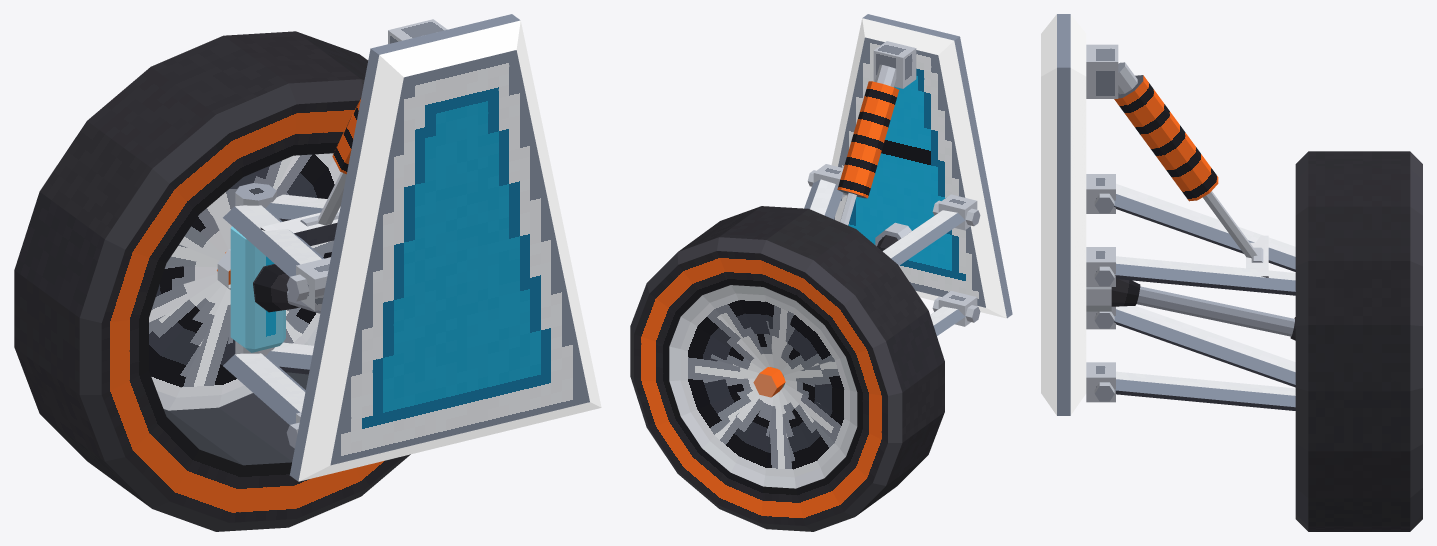
Rendered from aero_a_wheel.glb.
3 views of the same model, side by side, from view 1: azimuth 30°, elevation 25°; view 2: azimuth 150°, elevation 25°; view 3: azimuth 270°, elevation 25° (orthographic). The views are drawn at different scales.
Visible parts, largest first — view 1: aero_a_wheel_tyre, aero_a_wheel_mount, aero_a_wheel_arm_up, aero_a_wheel_knuckle, aero_a_wheel_arm_lo, aero_a_wheel_shaft, aero_a_wheel_dmp_rod, aero_a_wheel_dmp_body; view 2: aero_a_wheel_tyre, aero_a_wheel_mount, aero_a_wheel_dmp_body, aero_a_wheel_arm_up, aero_a_wheel_arm_lo; view 3: aero_a_wheel_tyre, aero_a_wheel_mount, aero_a_wheel_arm_lo, aero_a_wheel_arm_up, aero_a_wheel_dmp_body, aero_a_wheel_shaft, aero_a_wheel_dmp_rod.
Part boxes in pixels (bbox=[...]): aero_a_wheel_tyre: bbox=[14, 31, 410, 531]; aero_a_wheel_mount: bbox=[289, 14, 601, 481]; aero_a_wheel_arm_up: bbox=[223, 183, 340, 301]; aero_a_wheel_knuckle: bbox=[217, 226, 285, 352]; aero_a_wheel_arm_lo: bbox=[223, 341, 313, 448]; aero_a_wheel_shaft: bbox=[253, 264, 320, 313]; aero_a_wheel_dmp_rod: bbox=[300, 172, 346, 226]; aero_a_wheel_dmp_body: bbox=[332, 97, 361, 174]; aero_a_wheel_tyre: bbox=[630, 206, 944, 531]; aero_a_wheel_mount: bbox=[813, 14, 1012, 326]; aero_a_wheel_dmp_body: bbox=[837, 64, 899, 198]; aero_a_wheel_arm_up: bbox=[804, 170, 980, 265]; aero_a_wheel_arm_lo: bbox=[930, 297, 980, 335]; aero_a_wheel_tyre: bbox=[1295, 151, 1422, 531]; aero_a_wheel_mount: bbox=[1041, 14, 1118, 415]; aero_a_wheel_arm_lo: bbox=[1094, 306, 1295, 410]; aero_a_wheel_arm_up: bbox=[1094, 183, 1295, 295]; aero_a_wheel_dmp_body: bbox=[1114, 62, 1218, 201]; aero_a_wheel_shaft: bbox=[1111, 279, 1295, 340]; aero_a_wheel_dmp_rod: bbox=[1203, 191, 1263, 262].
Bounding box in the file's own units: 0.8272 × 1.15 × 0.84.
Materials: 1 (1 with a texture image).
